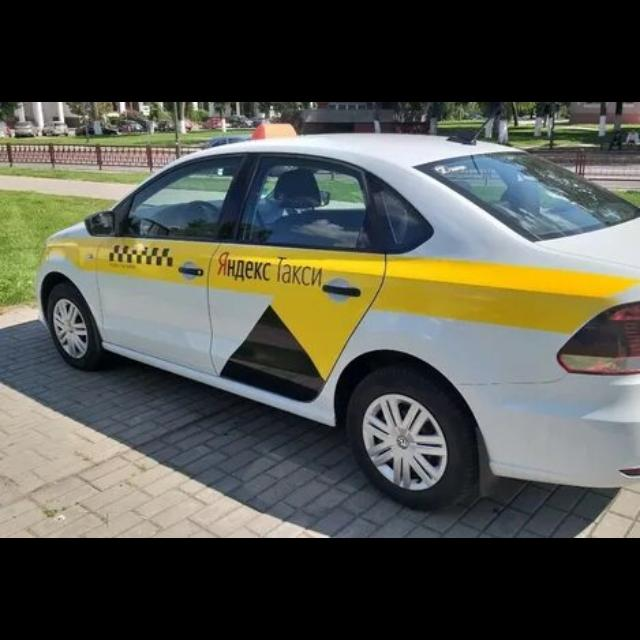taxi: (35, 124, 640, 512)
